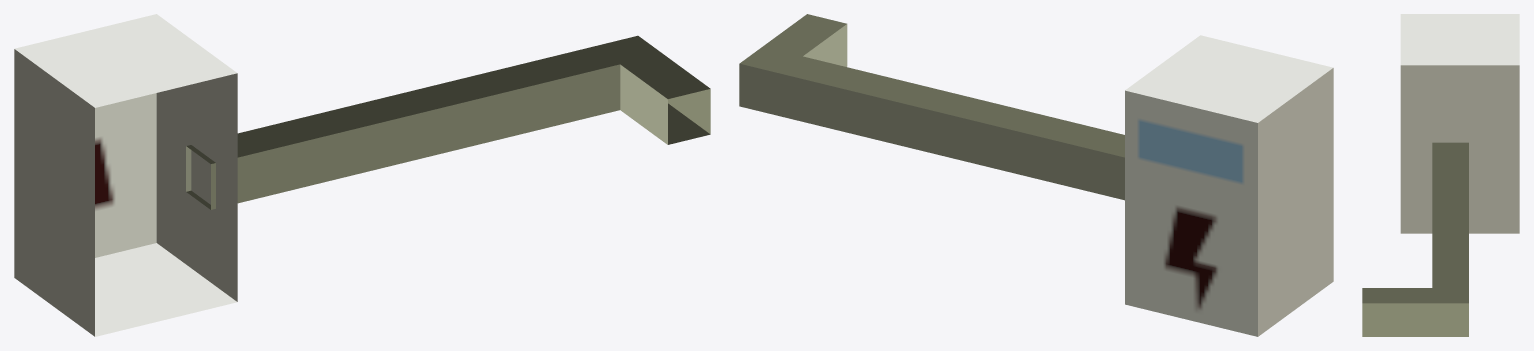
File: PowerBox_03.fbx
3 views of the same model, side by side, from view 1: azimuth 30°, elevation 25°; view 2: azimuth 150°, elevation 25°; view 3: azimuth 270°, elevation 25° (orthographic). The views are drawn at different scales.
Parts seen in each view (by area): view 1: PowerBox_03; view 2: PowerBox_03; view 3: PowerBox_03.
Part boxes in pixels (<box>): PowerBox_03: <box>14,14,710,336</box>; PowerBox_03: <box>739,14,1333,336</box>; PowerBox_03: <box>1362,14,1519,336</box>.
Size of the model in its own units: 1.48 by 0.5487 by 0.465.
